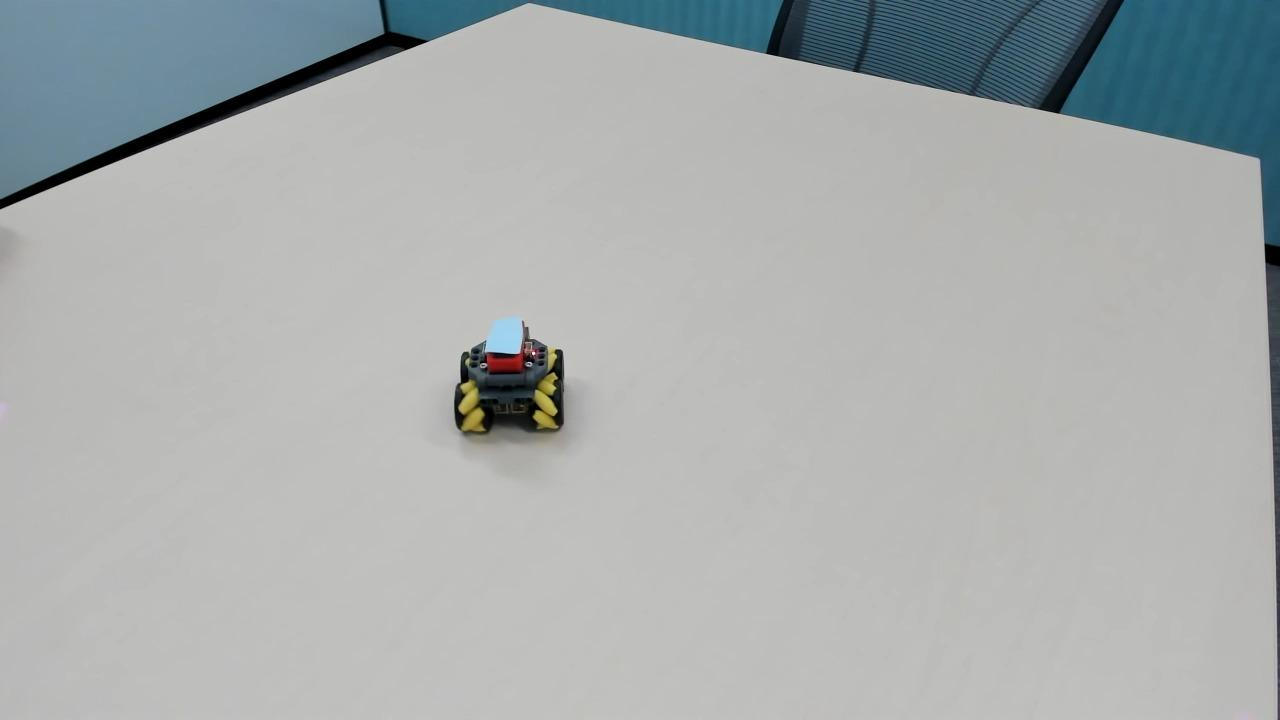B-Robot: (438, 309, 585, 464)
